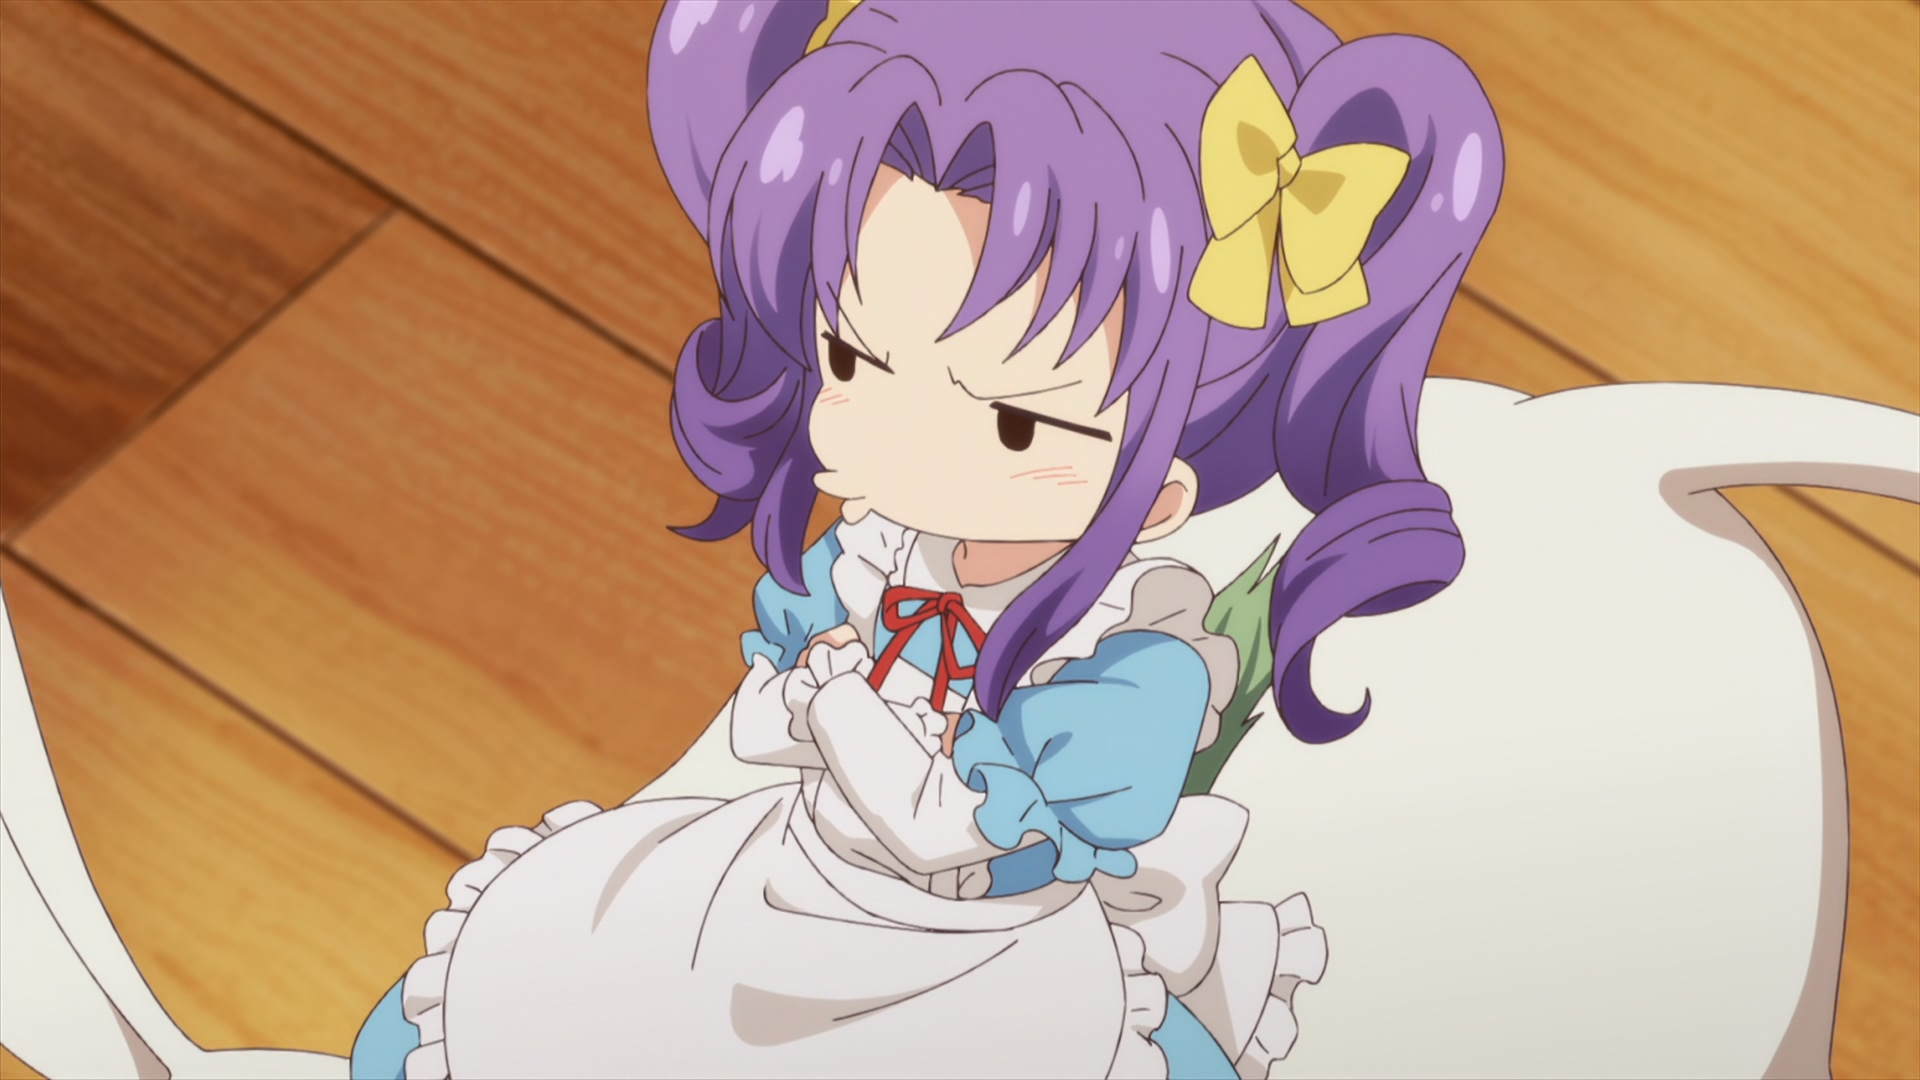瓜之介: (1, 378, 1920, 1080)
阿菊: (348, 1, 1505, 1080)
